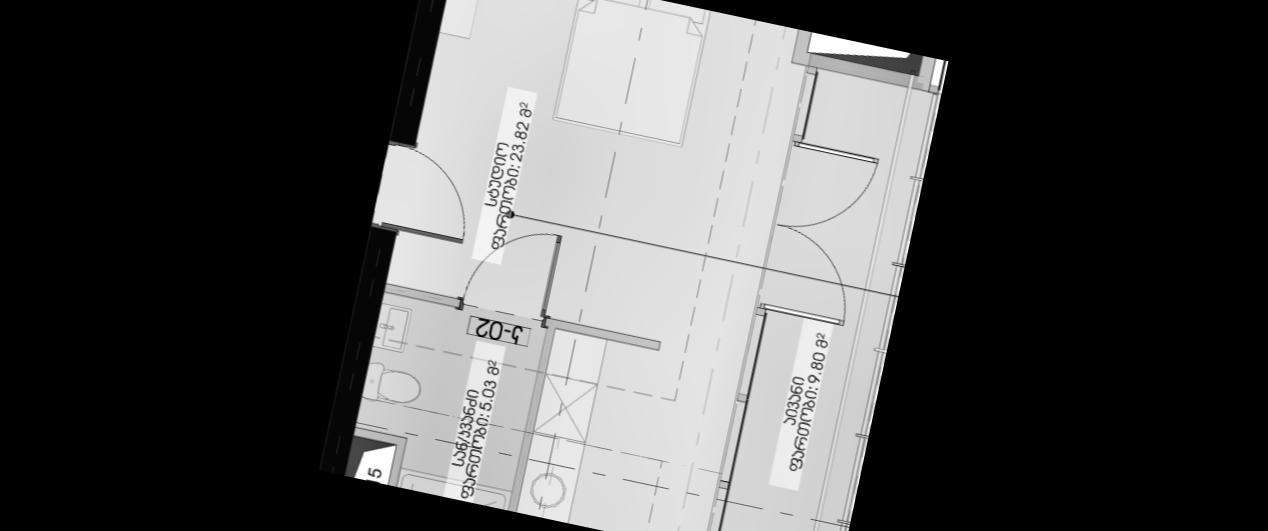door: (452, 211, 568, 334), (763, 130, 884, 241), (370, 133, 484, 250), (748, 220, 864, 330)
